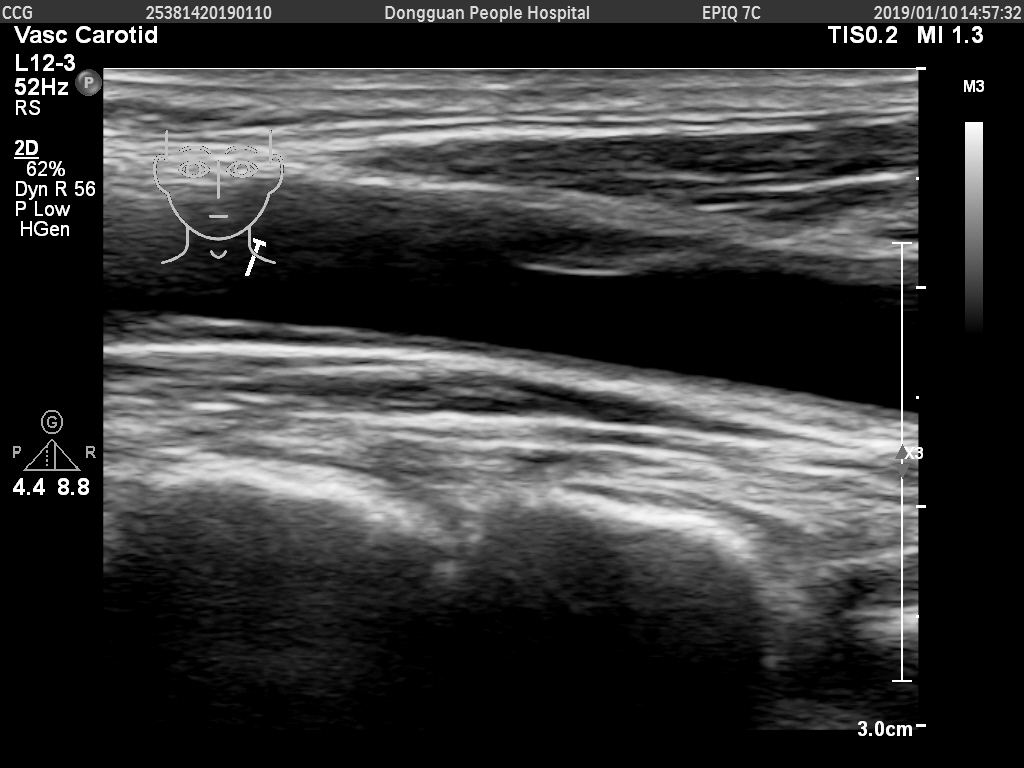plaque: (488, 217, 736, 287)
vessel: (463, 180, 765, 402)
